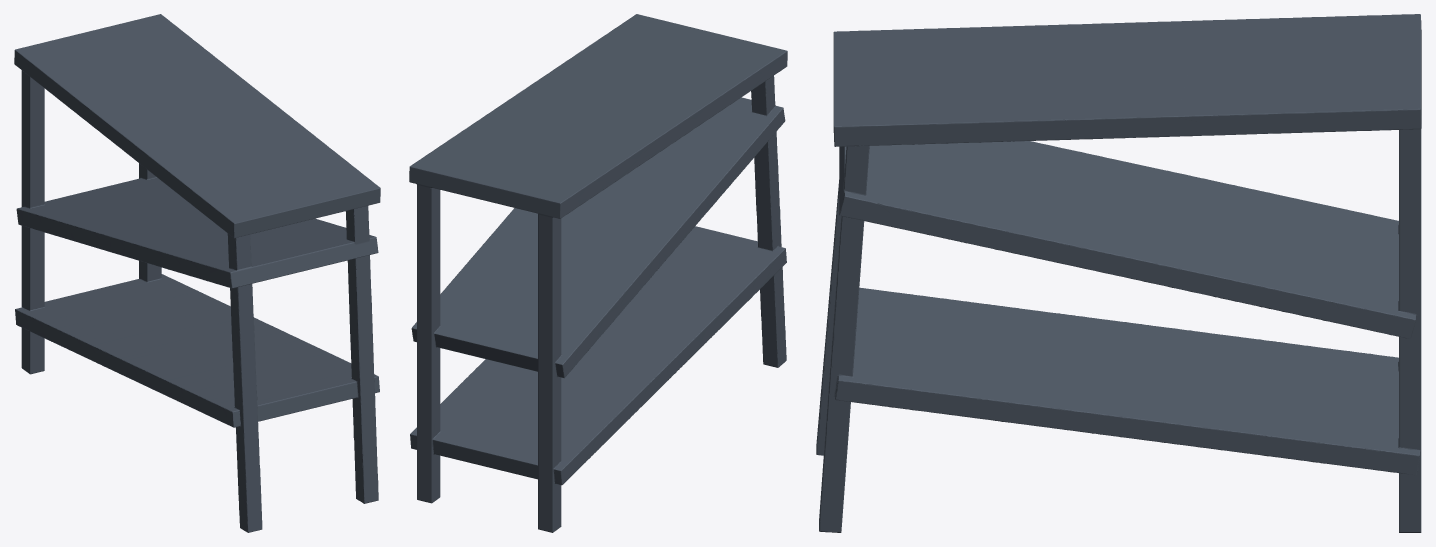
Rendered from kaputtesMetallregal.obj.
3 views of the same model, side by side, from view 1: azimuth 30°, elevation 25°; view 2: azimuth 150°, elevation 25°; view 3: azimuth 270°, elevation 25° (orthographic). The views are drawn at different scales.
Parts seen in each view (by area): view 1: 280310_23_05_25_06_43_01_0; view 2: 280310_23_05_25_06_43_01_0; view 3: 280310_23_05_25_06_43_01_0.
Part boxes in pixels (x1,y1,x2,y2): 280310_23_05_25_06_43_01_0: (14,14,380,532); 280310_23_05_25_06_43_01_0: (409,14,787,532); 280310_23_05_25_06_43_01_0: (816,14,1421,532).
Size of the model in its own units: 4 by 8.37 by 10.71.
1 material, 1 textured.
